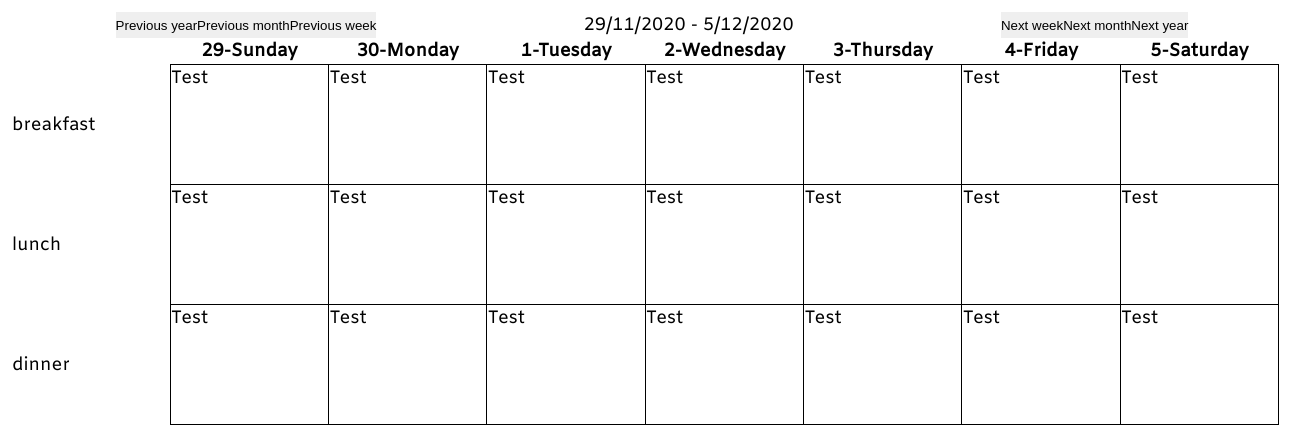
recipe calendar › should render the previous year when selected
What coordinates should you click on to do the following:
click the button "Previous year"
I would click on:
 (156, 25)
Its box is [116,12,197,38].
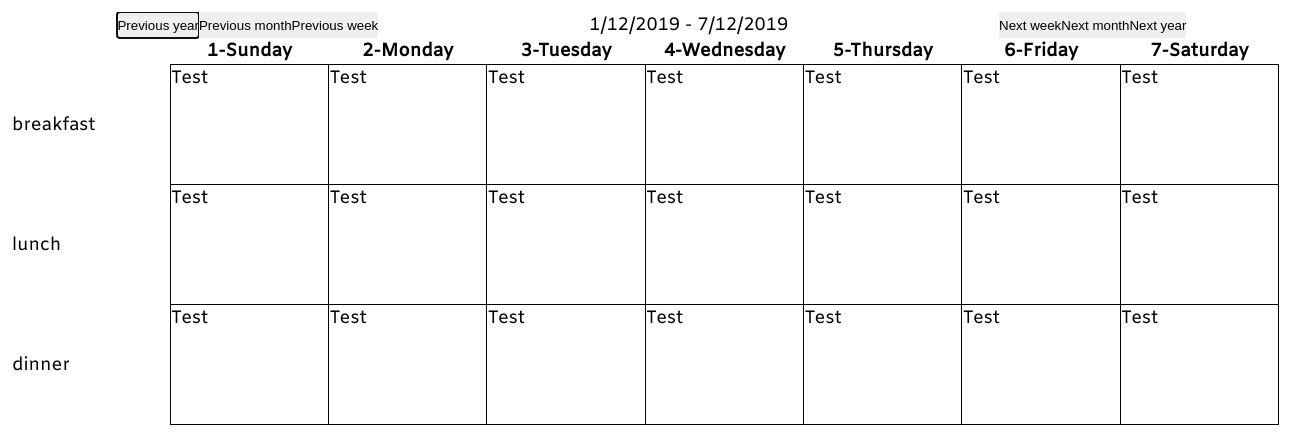
Expected: the text with test id "selectedWeek" reads "1/12/2019 - 7/12/2019", [589,12,788,38]
